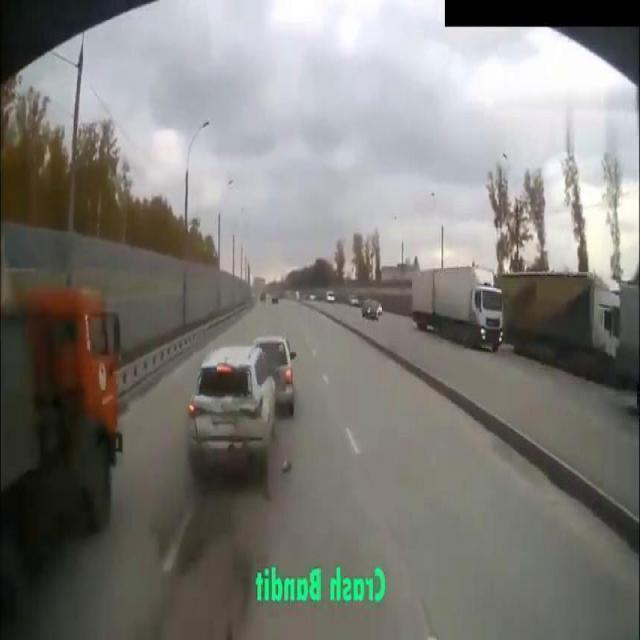accident: (184, 330, 300, 490)
